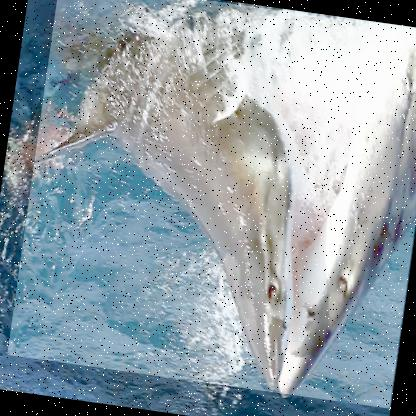white-shark: (6, 0, 415, 408)
